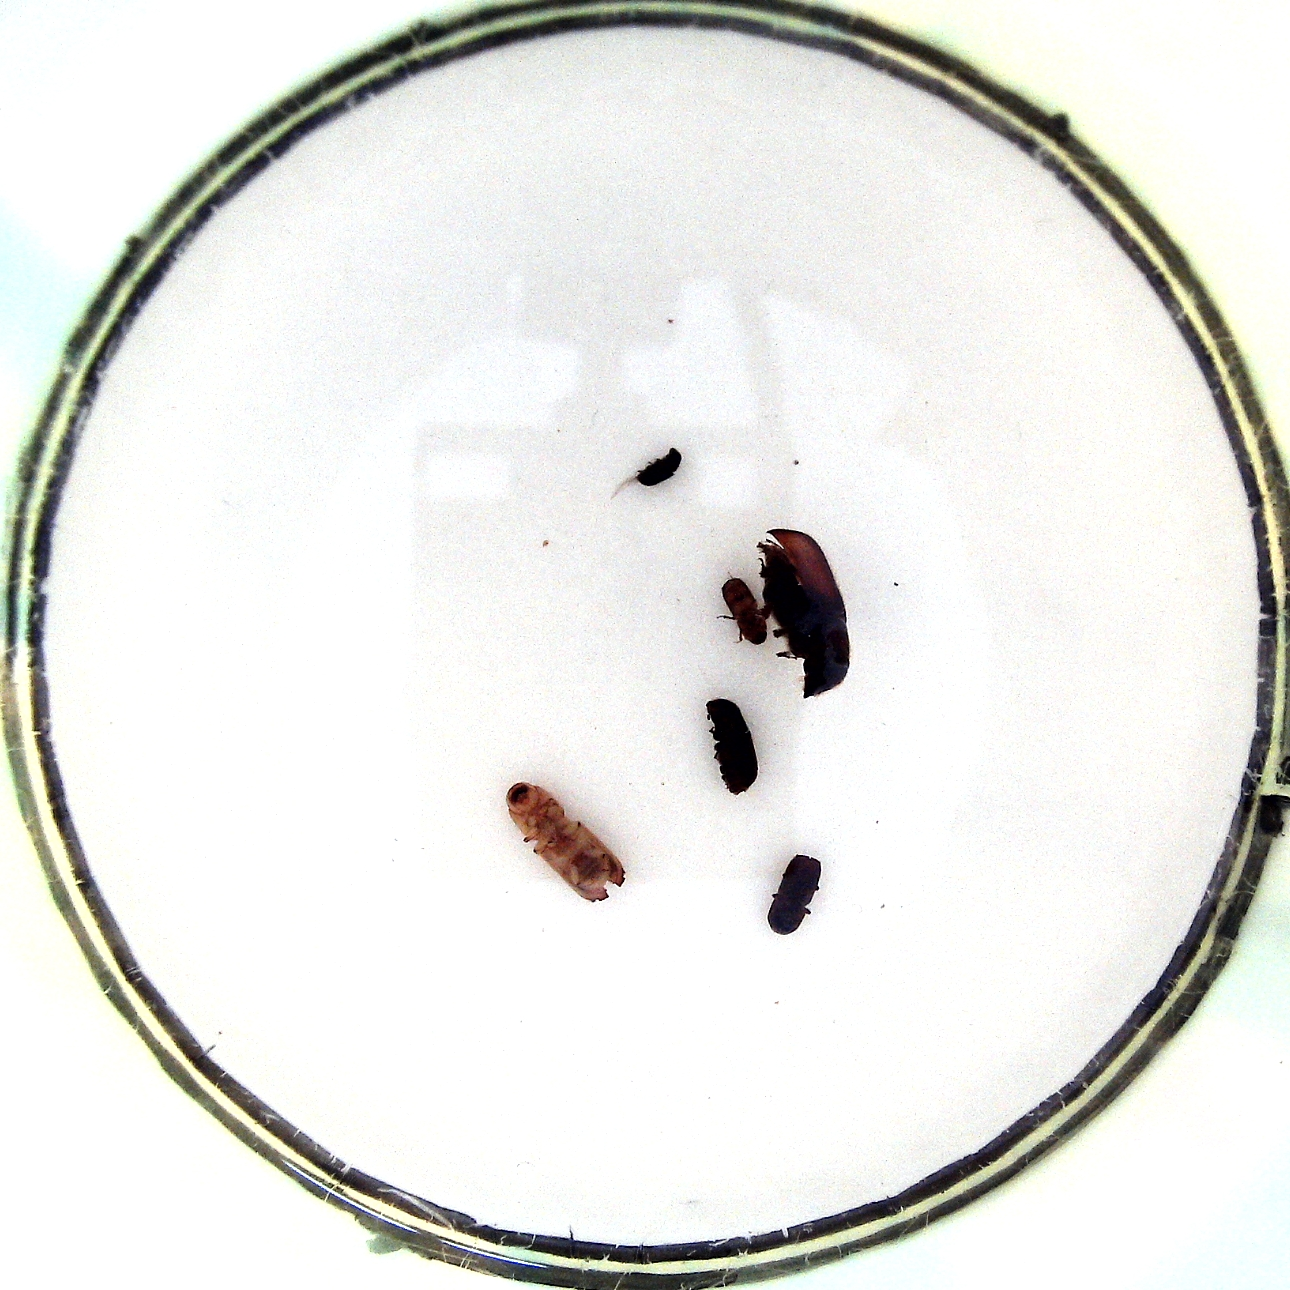Boerner: (506, 781, 624, 908)
Leconte: (760, 525, 853, 703)
Linnaeus: (765, 854, 827, 940)
acuminatus: (715, 576, 768, 652)
armandi: (697, 695, 758, 796)
coleoptera: (628, 445, 688, 496)
